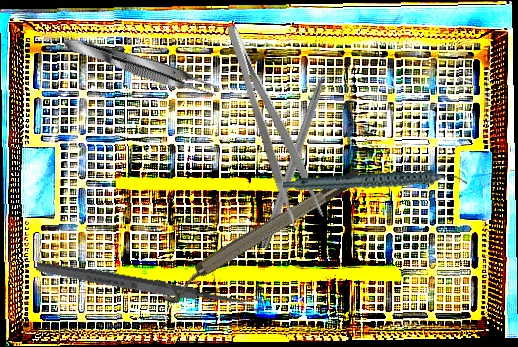Dressing Forceps: (221, 15, 326, 232)
Fixation Ring: (153, 164, 371, 308)
Handpiece: (282, 142, 469, 223)
Hook Surgical: (259, 53, 337, 251)
Surgical Spoon: (35, 259, 264, 314)
Tissue Forceps: (59, 30, 222, 102)
